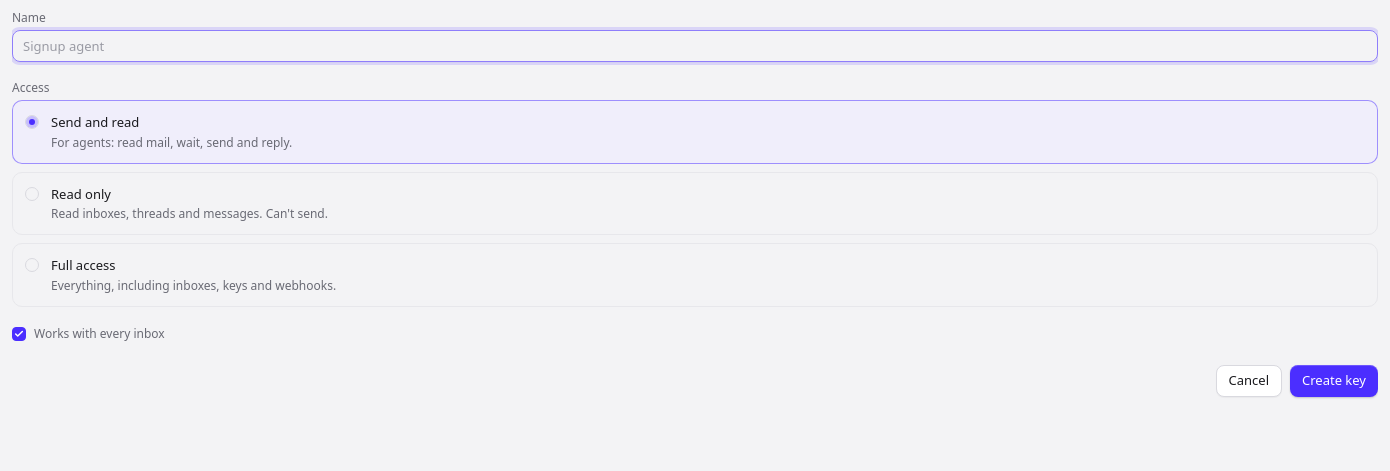
CreateApiKeyForm › shows API errors on the form
The image size is (1390, 471).
Type "Agent" into the field labelled "Name".
click(695, 46); type("Agent")  # box [12,30,1378,62]
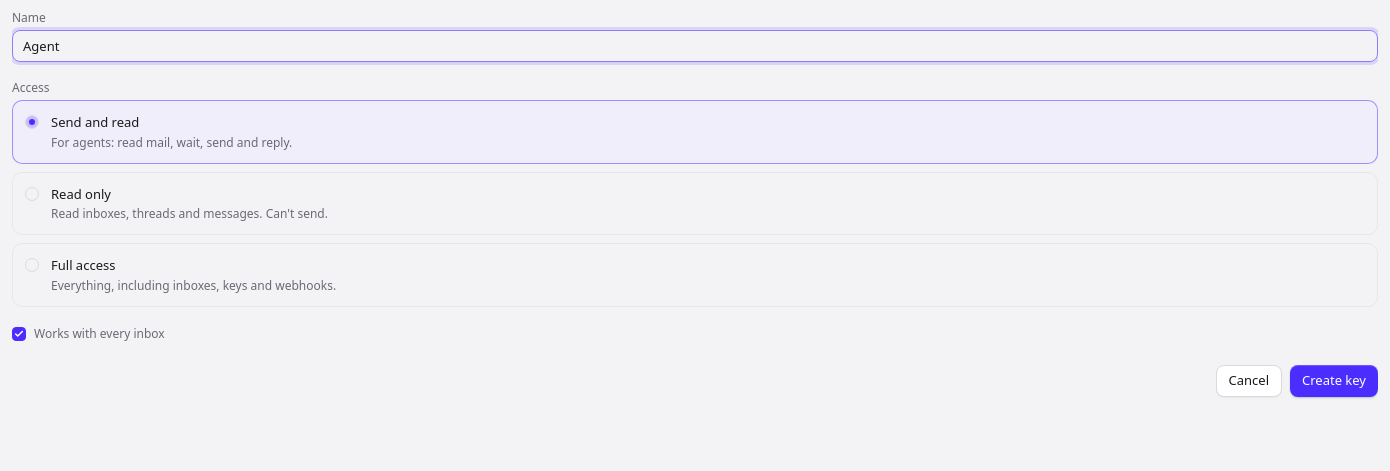
Click the button "Create key".
click(1334, 380)  # box [1290,364,1378,396]
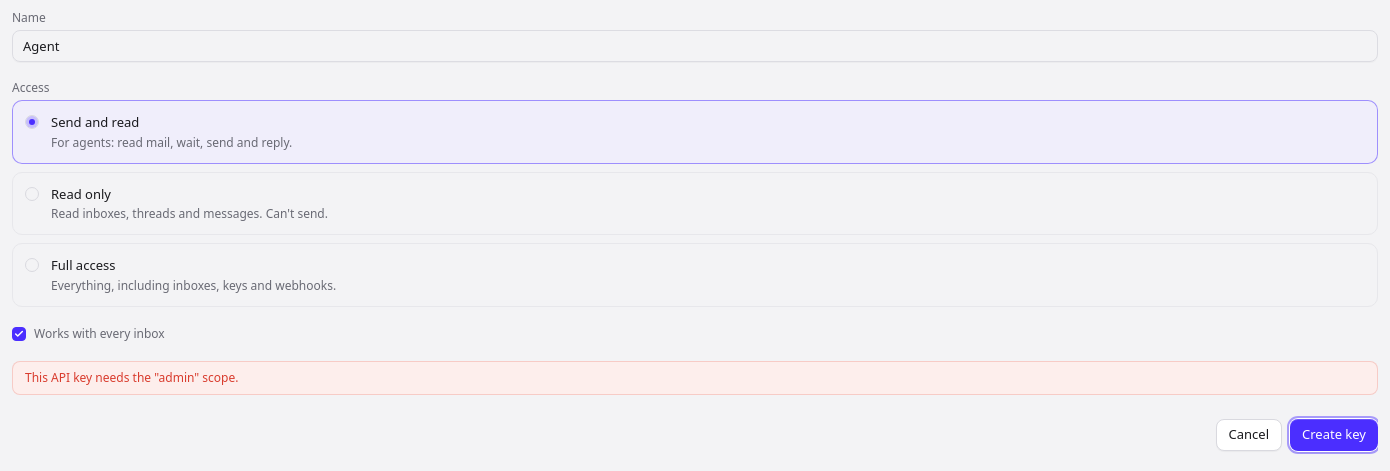
Result: the message shows "needs the \"admin\" scope" at [25,368,238,386]
